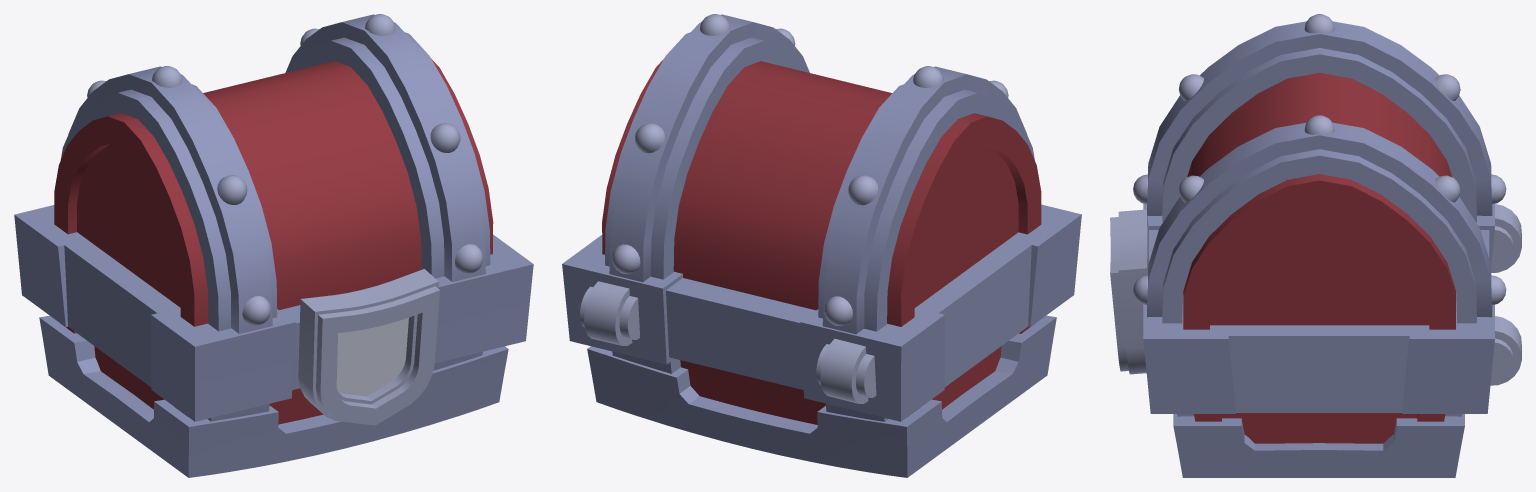
Rendered from Chest E Multi.fbx.
3 views of the same model, side by side, from view 1: azimuth 30°, elevation 25°; view 2: azimuth 150°, elevation 25°; view 3: azimuth 270°, elevation 25° (orthographic). The views are drawn at different scales.
Parts seen in each view (by area): view 1: Chest E Cover, Chest E, Chest E Icon; view 2: Chest E Cover, Chest E; view 3: Chest E Cover, Chest E, Chest E Icon.
Boxes of the visible parts, x1=… form: Chest E Cover: x1=14, y1=14, x2=533, y2=383; Chest E: x1=18, y1=255, x2=529, y2=477; Chest E Icon: x1=298, y1=269, x2=439, y2=425; Chest E Cover: x1=562, y1=14, x2=1081, y2=403; Chest E: x1=566, y1=255, x2=1077, y2=477; Chest E Cover: x1=1133, y1=14, x2=1521, y2=385; Chest E: x1=1147, y1=264, x2=1491, y2=477; Chest E Icon: x1=1110, y1=209, x2=1148, y2=374.
Size of the model in its own units: 2.89 by 2.9 by 3.12.
